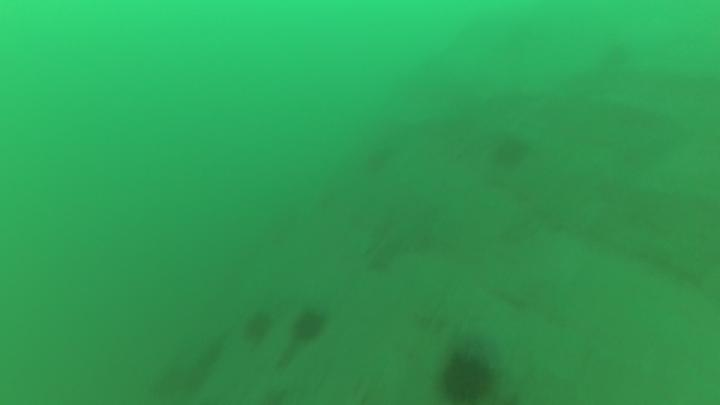echinus: (426, 335, 505, 405), (290, 302, 330, 345), (243, 307, 277, 349)
